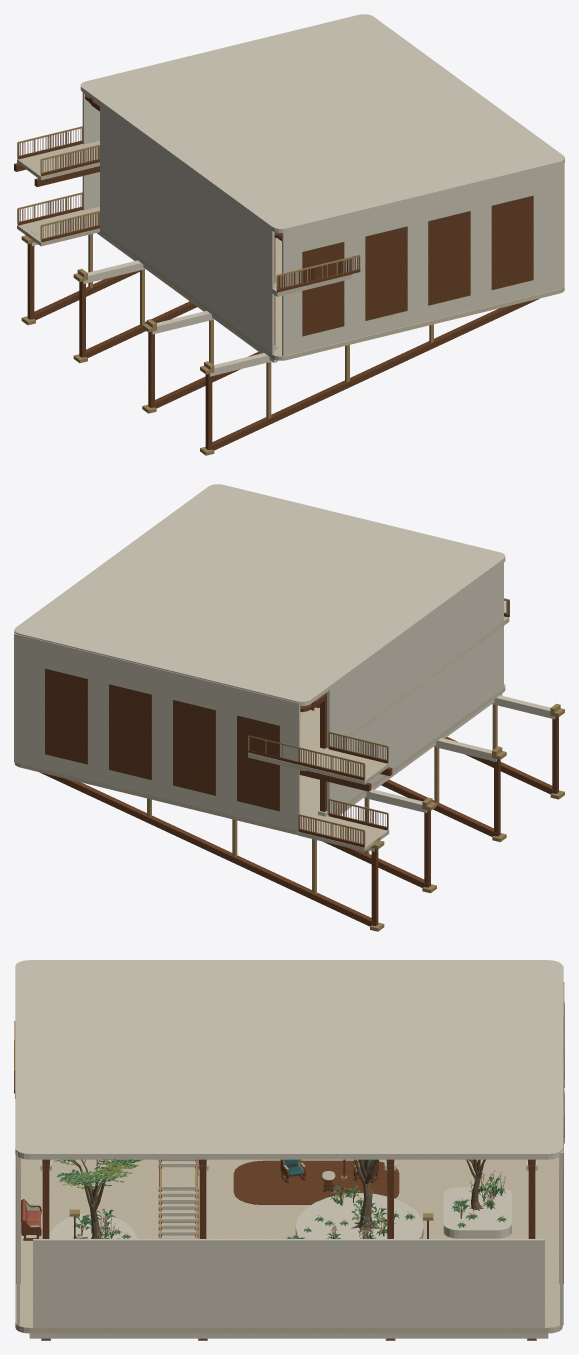
The model's file is source.glb.
The picture shows the model from 3 angles, top to bottom: view 1: azimuth 30°, elevation 25°; view 2: azimuth 150°, elevation 25°; view 3: azimuth 270°, elevation 25°; orthographic projection. The views are drawn at different scales.
Visible parts, largest first — view 1: ROOF_OpaqueGardenCap, ENC_BackGalleryWall, ENC_EndWall_-308.24, ENC_EndPanel_-308.24_20.5, ENC_EndPanel_-308.24_16, ENC_EndPanel_-308.24_25, ENC_EndPanel_-308.24_11.5, SUP_diagonal_lower_3, GARDEN_ProposedBase, LOWER_EndCrosslink, UPPER_EndCrosslink, ENC_EndWall_-332.86 (+10 smaller); view 2: ROOF_OpaqueGardenCap, ENC_EndWall_-332.86, ENC_BackGalleryWall, ENC_EndPanel_-332.86_25, ENC_EndPanel_-332.86_20.5, ENC_EndPanel_-332.86_16, ENC_EndPanel_-332.86_11.5, SUP_diagonal_lower_0, GARDEN_ProposedBase, GALLERY_UpperDeck, UPPER_EndCrosslink, LOWER_EndCrosslink (+8 smaller); view 3: ROOF_OpaqueGardenCap, ENC_LowerPrivateBack, GARDEN_ProposedBase, LOWER_ReadingPocket, BED_CentralCanopy, SUP_longitudinal_28.7, BED_ArrivalFern, ENC_WindowAboveHeader, BED_SouthCanopy, ENC_EndWall_-332.86, ENC_EndWall_-308.24, STAIR_MiddleLanding (+4 smaller).
Boxes of the visible parts, x1,y1,x2,y2 form: ROOF_OpaqueGardenCap: [80, 14, 564, 232]; ENC_BackGalleryWall: [100, 105, 274, 354]; ENC_EndWall_-308.24: [282, 161, 564, 356]; ENC_EndPanel_-308.24_20.5: [428, 211, 470, 305]; ENC_EndPanel_-308.24_16: [365, 226, 407, 320]; ENC_EndPanel_-308.24_25: [491, 195, 533, 289]; ENC_EndPanel_-308.24_11.5: [302, 242, 344, 336]; SUP_diagonal_lower_3: [210, 298, 539, 450]; GARDEN_ProposedBase: [80, 206, 564, 360]; LOWER_EndCrosslink: [17, 210, 99, 246]; UPPER_EndCrosslink: [17, 145, 99, 180]; ENC_EndWall_-332.86: [82, 92, 99, 210]; ROOF_OpaqueGardenCap: [14, 484, 505, 705]; ENC_EndWall_-332.86: [14, 633, 300, 831]; ENC_BackGalleryWall: [327, 560, 503, 815]; ENC_EndPanel_-332.86_25: [45, 668, 87, 764]; ENC_EndPanel_-332.86_20.5: [109, 684, 151, 780]; ENC_EndPanel_-332.86_16: [173, 700, 215, 795]; ENC_EndPanel_-332.86_11.5: [237, 715, 279, 811]; SUP_diagonal_lower_0: [39, 772, 374, 926]; GARDEN_ProposedBase: [14, 684, 505, 834]; GALLERY_UpperDeck: [248, 616, 509, 771]; UPPER_EndCrosslink: [299, 748, 389, 784]; LOWER_EndCrosslink: [298, 816, 389, 851]; ROOF_OpaqueGardenCap: [15, 960, 562, 1159]; ENC_LowerPrivateBack: [33, 1239, 544, 1327]; GARDEN_ProposedBase: [15, 1154, 562, 1333]; LOWER_ReadingPocket: [233, 1160, 399, 1204]; BED_CentralCanopy: [295, 1193, 423, 1238]; SUP_longitudinal_28.7: [29, 1333, 548, 1338]; BED_ArrivalFern: [443, 1187, 511, 1238]; ENC_WindowAboveHeader: [33, 1155, 544, 1159]; BED_SouthCanopy: [49, 1213, 137, 1238]; ENC_EndWall_-332.86: [560, 966, 563, 1325]; ENC_EndWall_-308.24: [16, 1152, 19, 1325]; STAIR_MiddleLanding: [158, 1170, 198, 1186].
Bounding box in the file's own units: 25.28 × 14.7 × 24.95.
64 materials, 63 textured.
